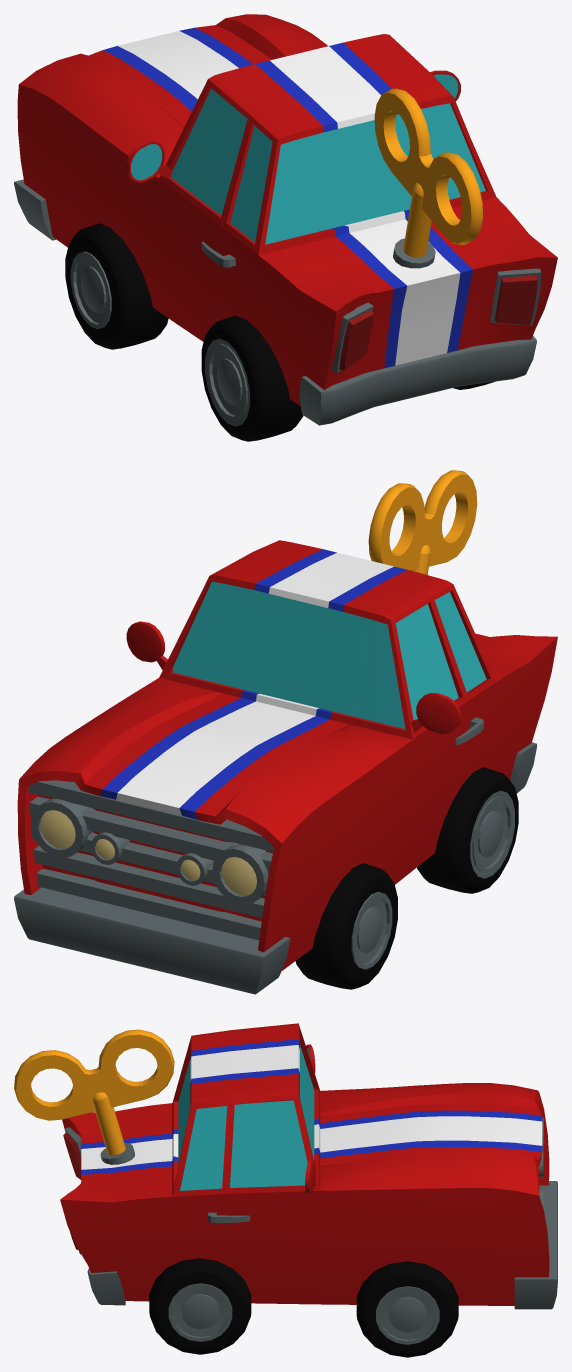
Rendered from CarBlue 1.FBX.
3 renders of one model, top to bottom at view 1: azimuth 30°, elevation 25°; view 2: azimuth 150°, elevation 25°; view 3: azimuth 270°, elevation 25°, orthographic. The views are drawn at different scales.
Parts seen in each view (by area): view 1: Car, Key, Wheel_Back_2, Wheel_Front_2; view 2: Car, Wheel_Front_2, Wheel_Back_2, Key; view 3: Car, Key, Wheel_Back_1, Wheel_Front_1.
Part boxes in pixels (x1,y1,x2,y2): Car: (14, 14, 557, 425); Key: (374, 88, 483, 257); Wheel_Back_2: (201, 315, 303, 441); Wheel_Front_2: (65, 223, 168, 349); Car: (14, 540, 557, 994); Wheel_Front_2: (295, 863, 397, 989); Wheel_Back_2: (417, 767, 518, 893); Key: (368, 470, 477, 574); Car: (60, 1023, 557, 1309); Key: (14, 1029, 174, 1155); Wheel_Back_1: (149, 1258, 251, 1354); Wheel_Front_1: (356, 1261, 458, 1357).
Bounding box in the file's own units: 110 × 109 × 193.
